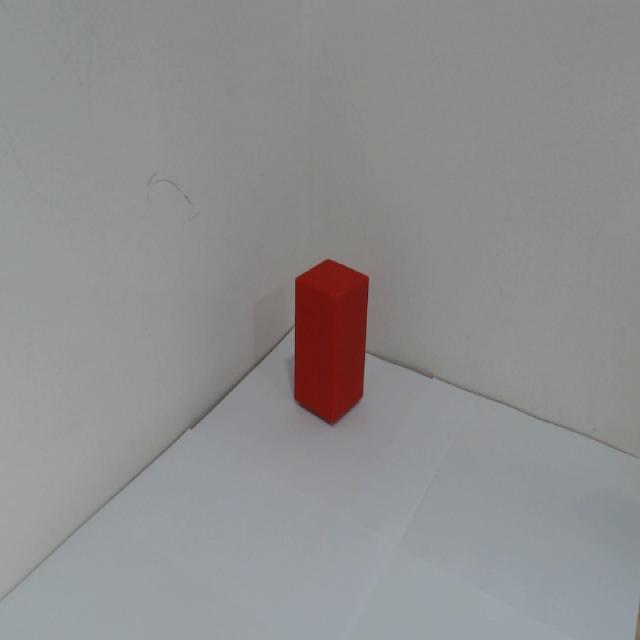cube: (289, 253, 372, 430)
